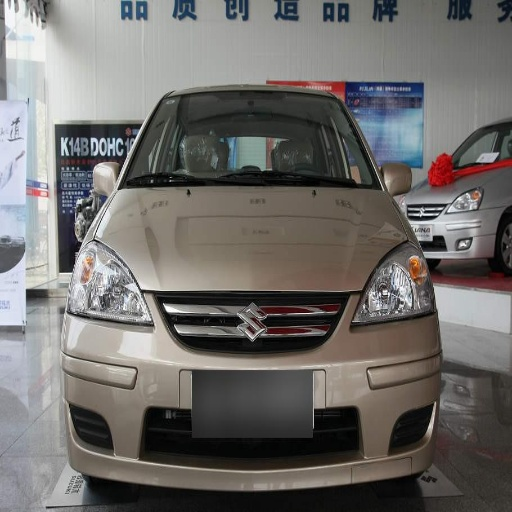front_bumper: (64, 290, 434, 492)
front_right_light: (68, 241, 153, 327)
hood: (98, 188, 407, 291)
